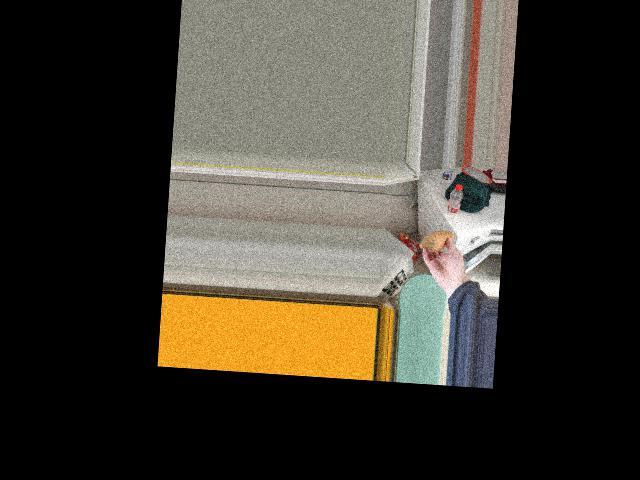sweet_potato: (422, 229, 452, 256)
